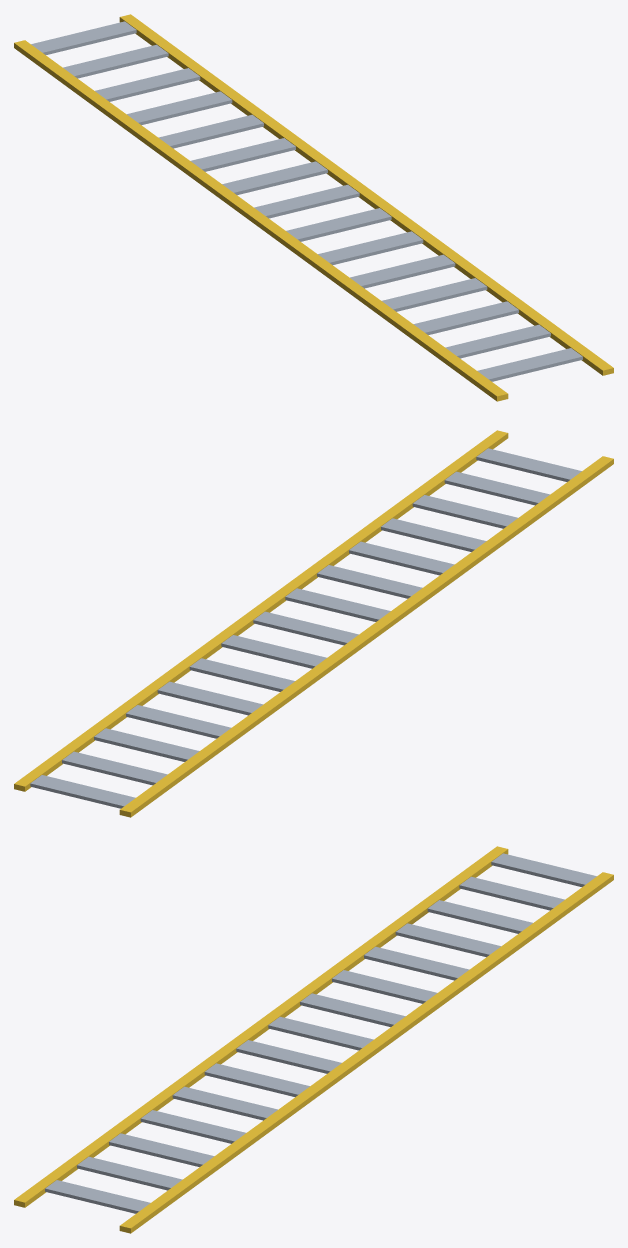
File: Lv1_CargoBay_Stairs.fbx
3 views of the same model, one above another, from view 1: azimuth 30°, elevation 25°; view 2: azimuth 150°, elevation 25°; view 3: azimuth 330°, elevation 25° (orthographic).
Visible parts, largest first — view 1: Stairs; view 2: Stairs; view 3: Stairs.
Part boxes in pixels (box(x1,y1,x2,y2)): Stairs: box(14, 14, 613, 401); Stairs: box(14, 430, 613, 817); Stairs: box(14, 846, 613, 1233).
Size of the model in its own units: 212 by 9.04 by 1516.
